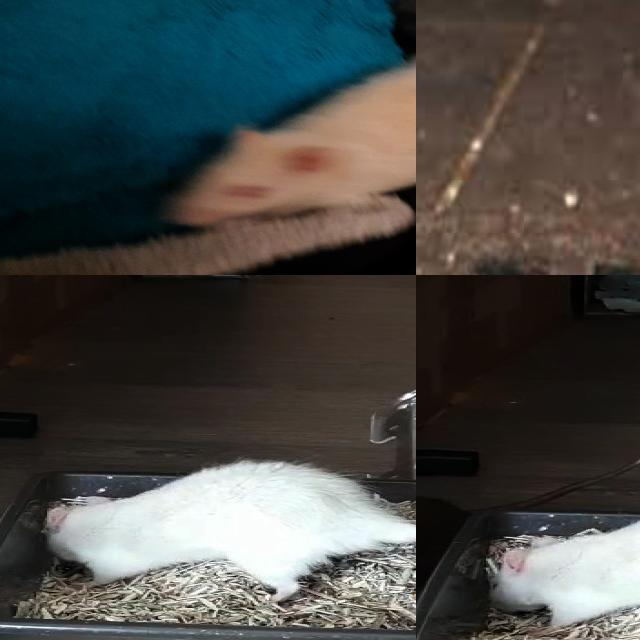rat: (43, 459, 390, 599), (156, 48, 416, 231), (482, 498, 640, 634)
